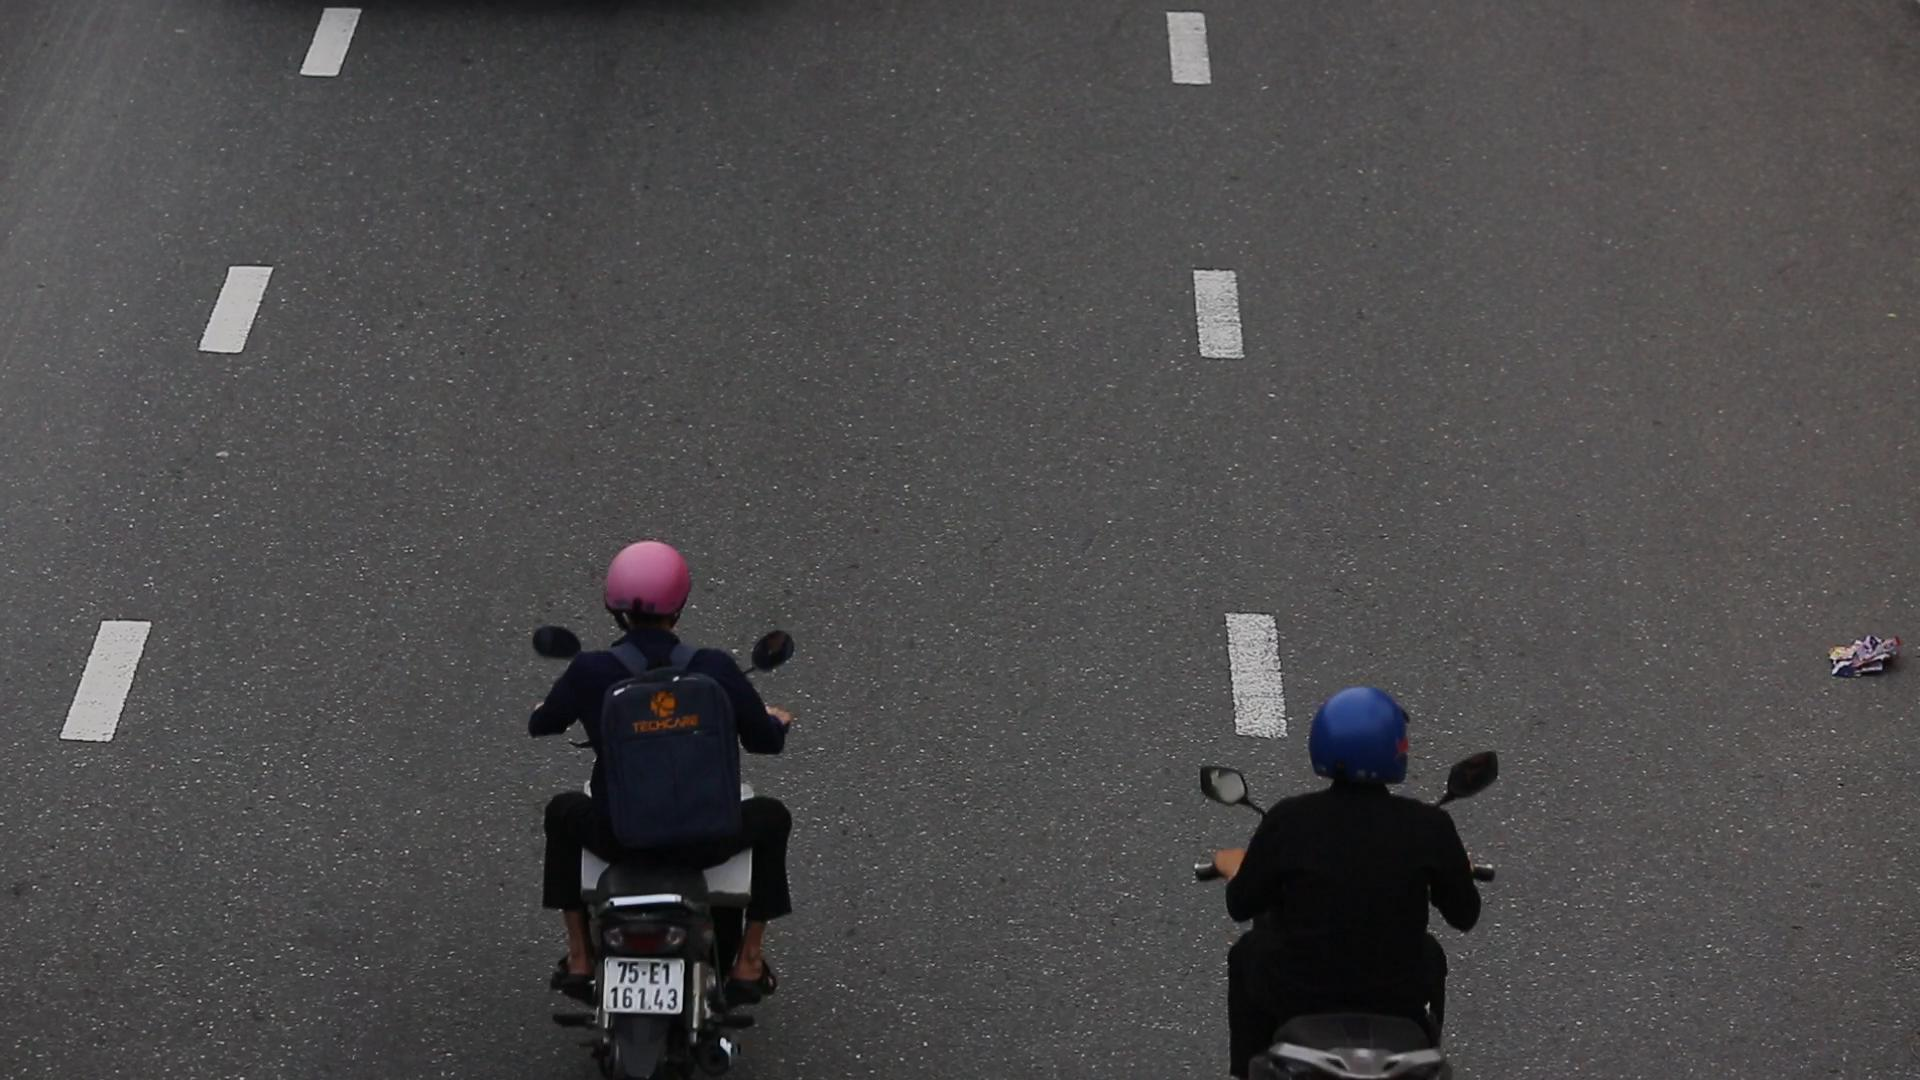motobike: (510, 541, 832, 1080)
